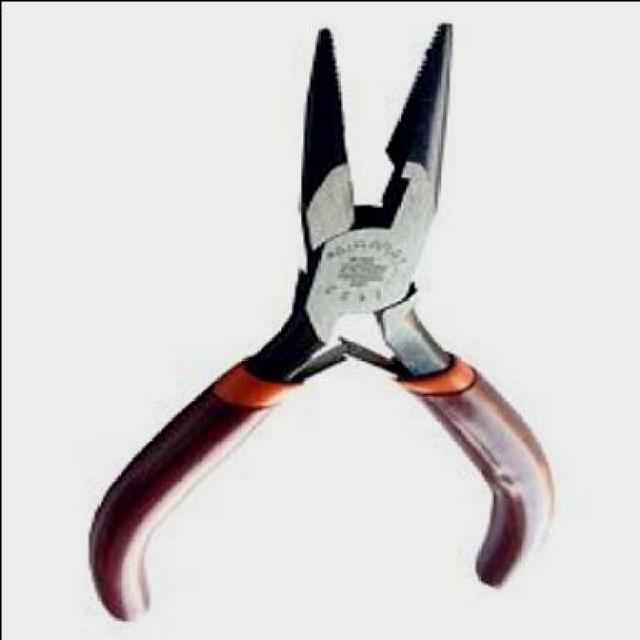Pliers: (81, 17, 573, 617)
